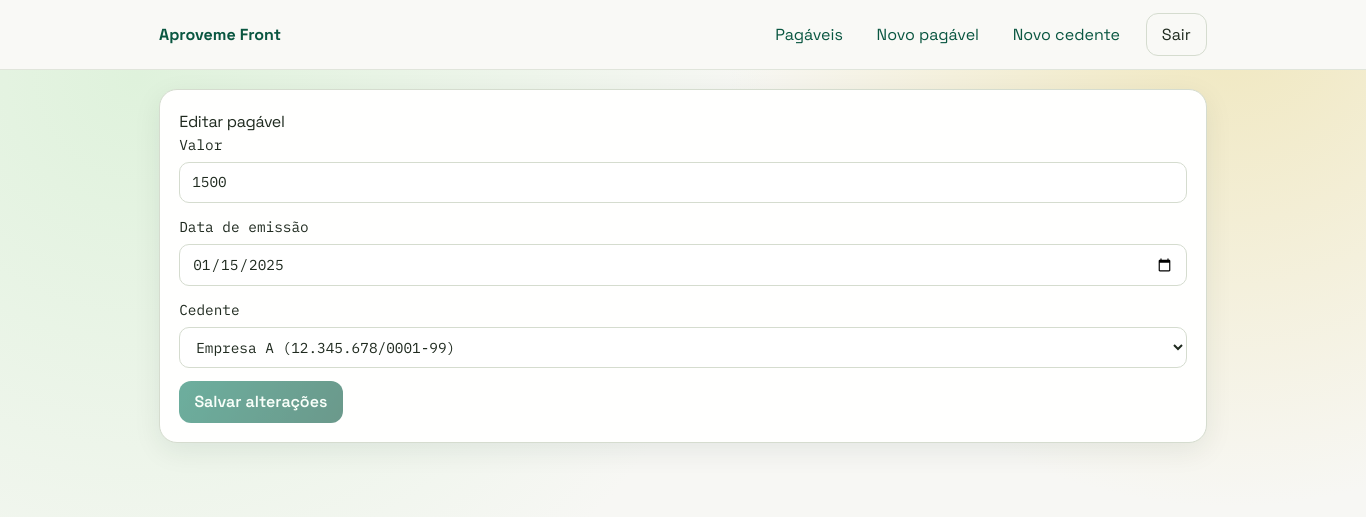
Scenario: EditPayablePage › shows error message when updatePayable API fails
Replace the text in the field showing "1500" with "999": (683, 182) [179,162,1187,203]
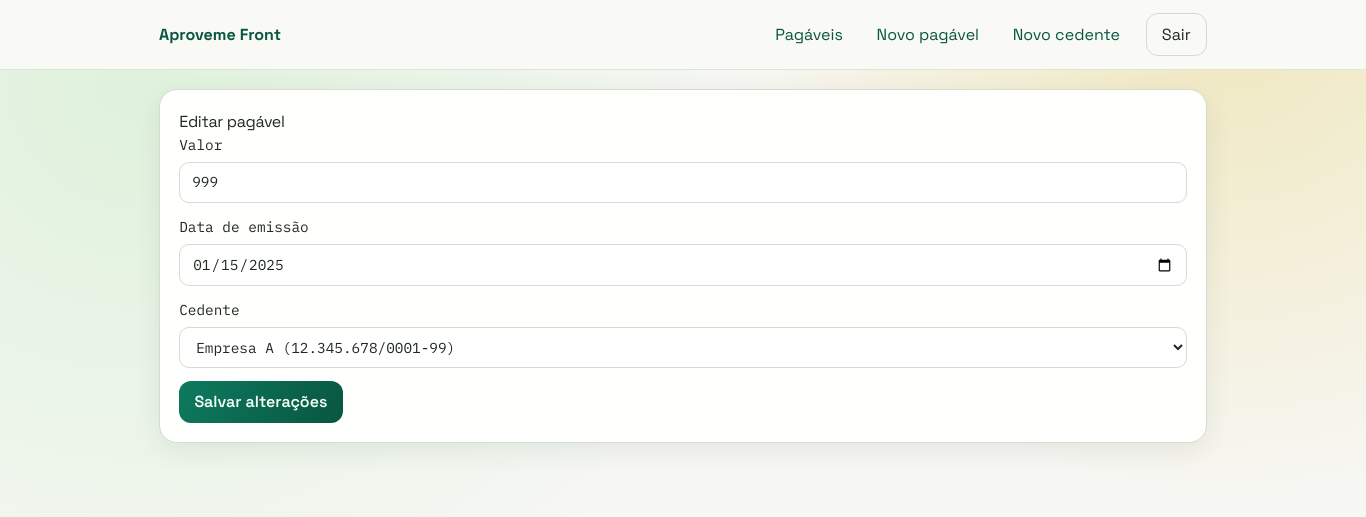
Click the button "Salvar alterações": (261, 402) [179,381,343,423]
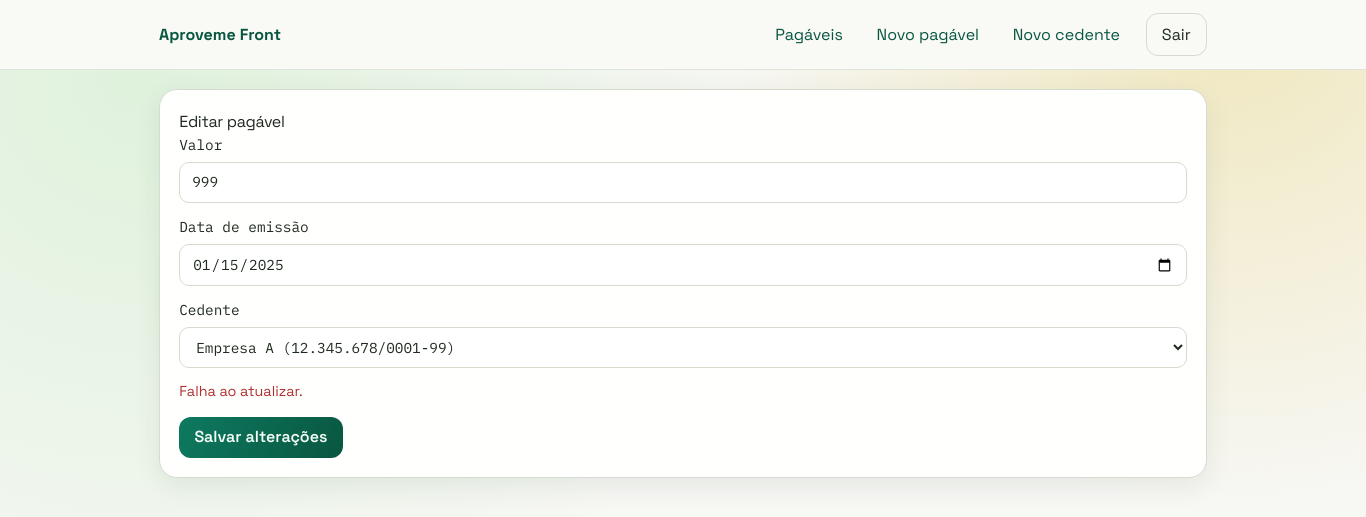
Now the text "Falha ao atualizar." is shown, box [179,382,303,400]
